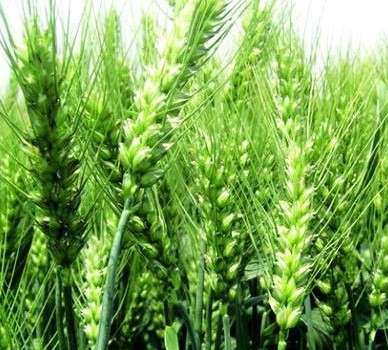Healthy Wheat: (250, 131, 328, 329)
